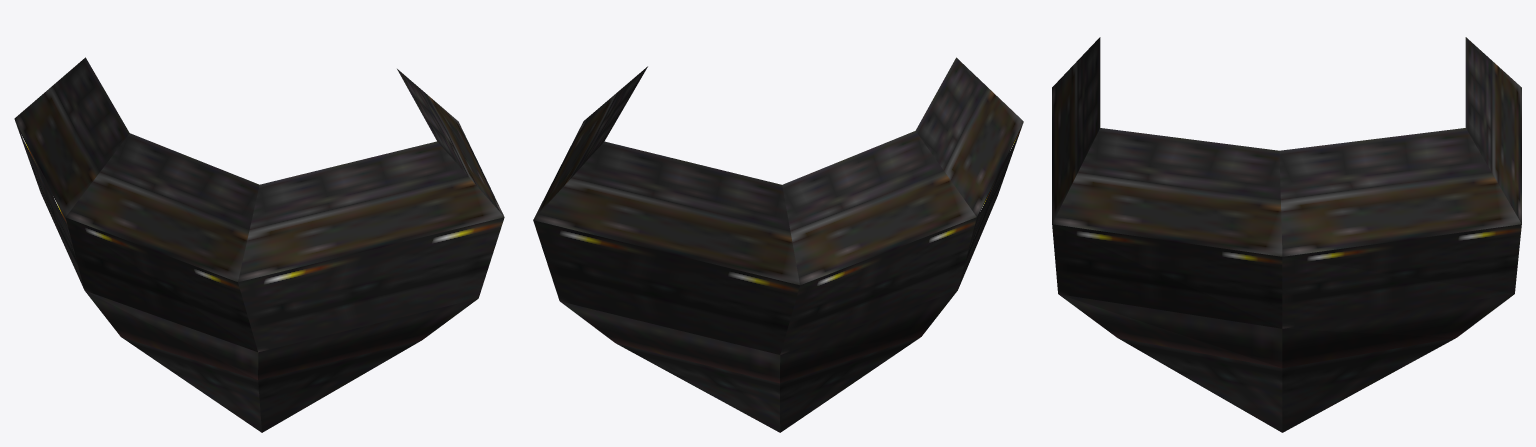
3 views of the same model, side by side, from view 1: azimuth 30°, elevation 25°; view 2: azimuth 150°, elevation 25°; view 3: azimuth 270°, elevation 25° (orthographic). The views are drawn at different scales.
Visible parts, largest first — view 1: root; view 2: root; view 3: root.
Part boxes in pixels (left/top/right/bottom): root: left=14, top=57, right=504, bottom=432; root: left=533, top=57, right=1023, bottom=432; root: left=1052, top=37, right=1521, bottom=432.
Size of the model in its own units: 0.9297 by 0.7539 by 0.916.
Materials: 1 (1 with a texture image).
